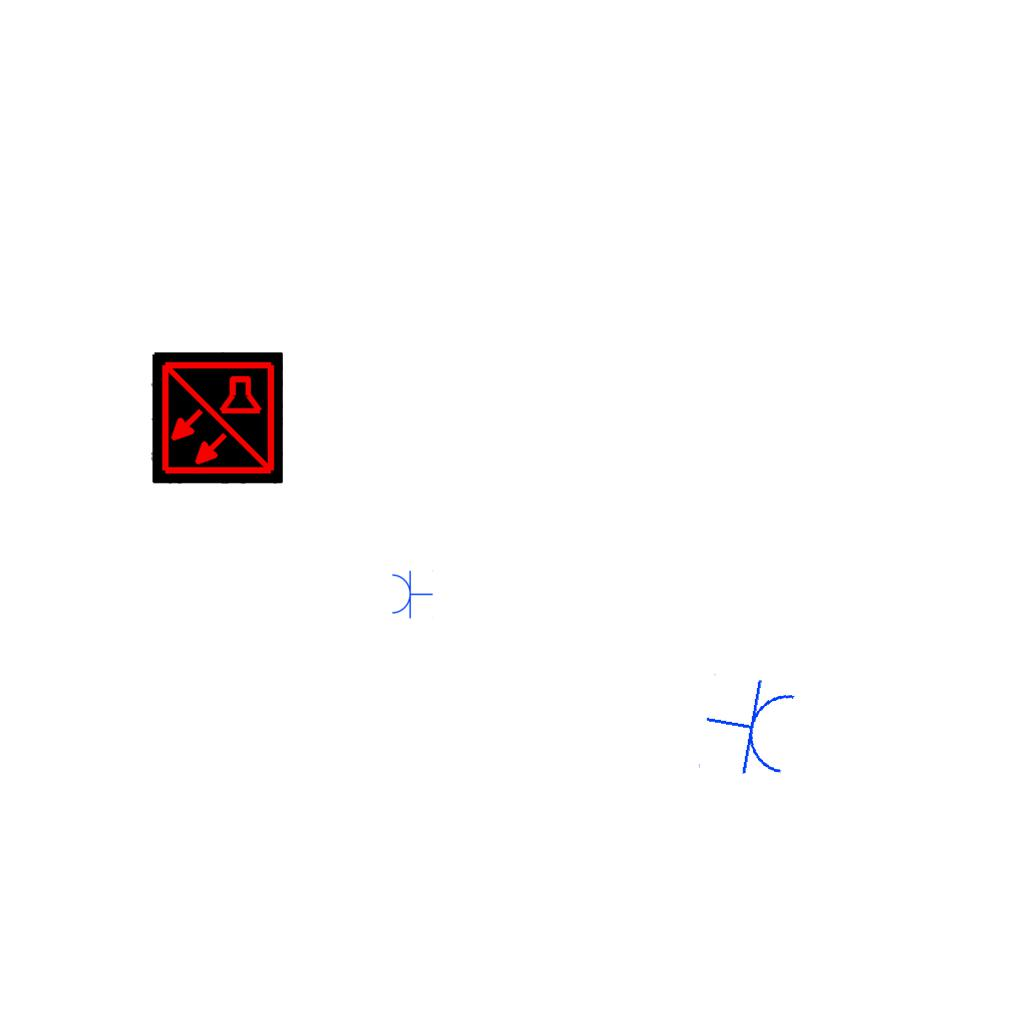OKW_Multisensormelder_(Kombination_optischer_Rauch-Kahlenmonoxid_Waerme-Melder): (151, 352, 283, 484)
Schukosteckdose_einfach: (697, 670, 801, 785), (390, 569, 433, 619)
